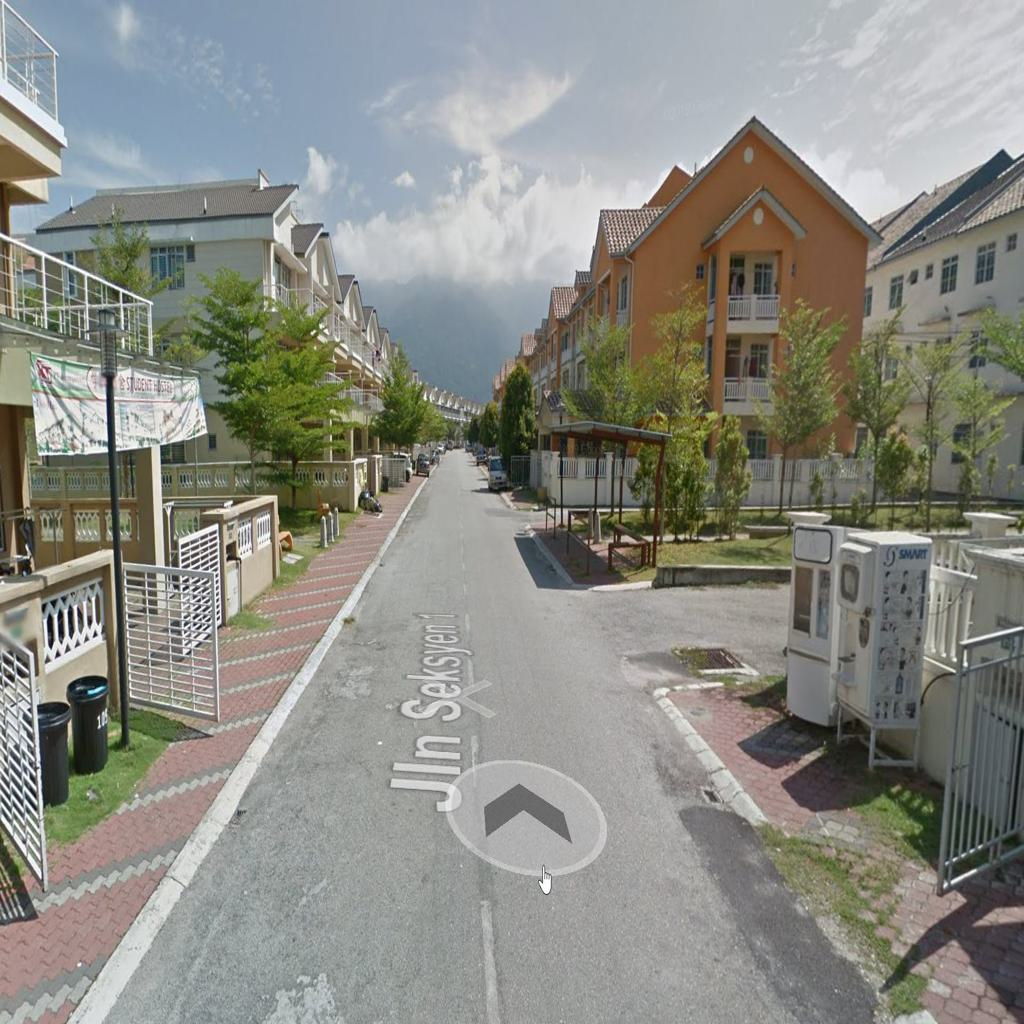Junction: (556, 557, 791, 713)
